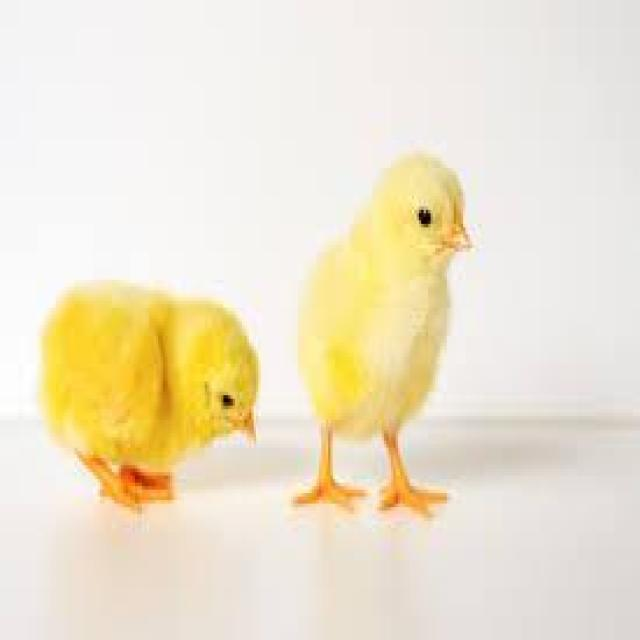poussin: (294, 137, 473, 534), (39, 282, 262, 504)
